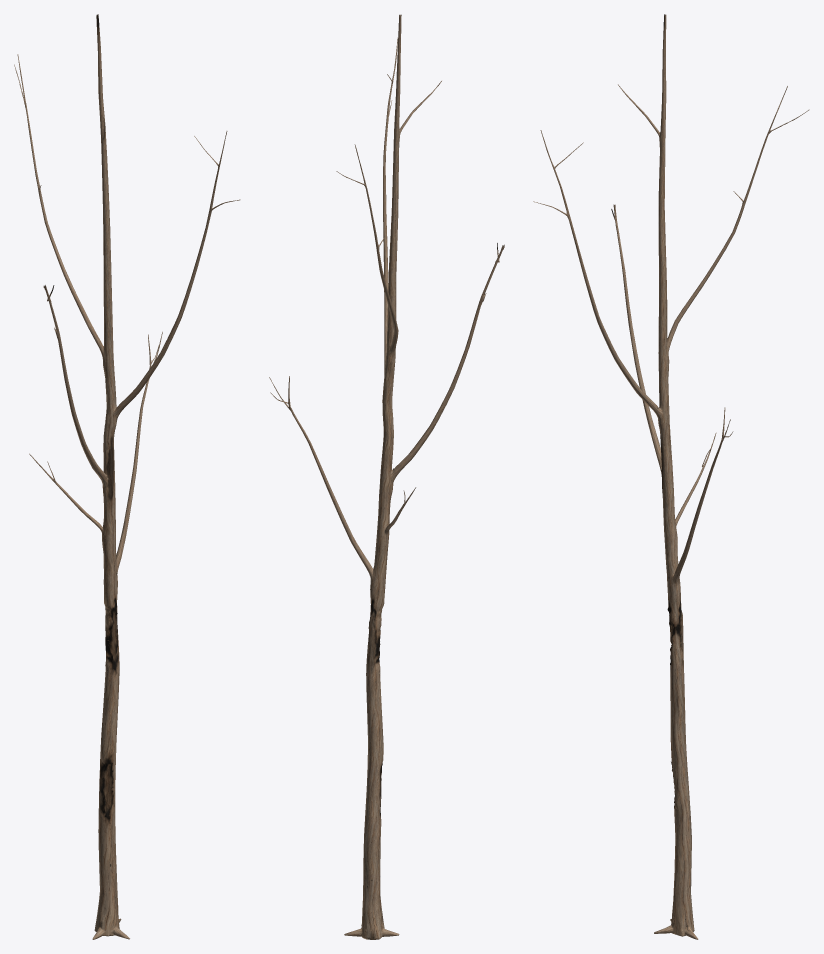
The model's file is Model_WarDamagedTree10Lod0.glb.
3 renders of one model, left to right at view 1: azimuth 30°, elevation 25°; view 2: azimuth 150°, elevation 25°; view 3: azimuth 270°, elevation 25°, orthographic. The views are drawn at different scales.
Parts seen in each view (by area): view 1: Tree10_Budget40K_LOD0; view 2: Tree10_Budget40K_LOD0; view 3: Tree10_Budget40K_LOD0.
Boxes of the visible parts, x1,y1,x2,y2 form: Tree10_Budget40K_LOD0: (14, 14, 240, 939); Tree10_Budget40K_LOD0: (269, 14, 504, 939); Tree10_Budget40K_LOD0: (533, 14, 809, 939).
Size of the model in its own units: 0.8651 by 4.31 by 1.19.
5 materials, 5 textured.
